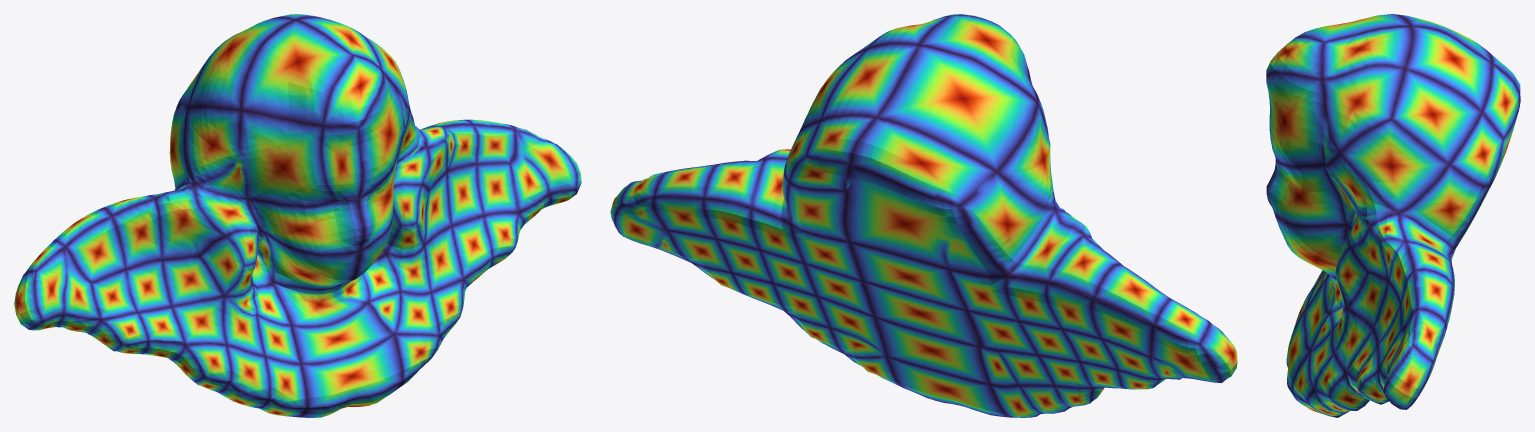
Rendered from gen2.glb.
3 renders of one model, left to right at view 1: azimuth 30°, elevation 25°; view 2: azimuth 150°, elevation 25°; view 3: azimuth 270°, elevation 25°, orthographic. The views are drawn at different scales.
Visible parts, largest first — view 1: Node; view 2: Node; view 3: Node.
Boxes of the visible parts, bbox=[...] form: Node: bbox=[14, 14, 581, 417]; Node: bbox=[610, 14, 1237, 417]; Node: bbox=[1266, 14, 1520, 417].
Size of the model in its own units: 67.98 by 41.37 by 25.78.
Materials: 1 (1 with a texture image).
